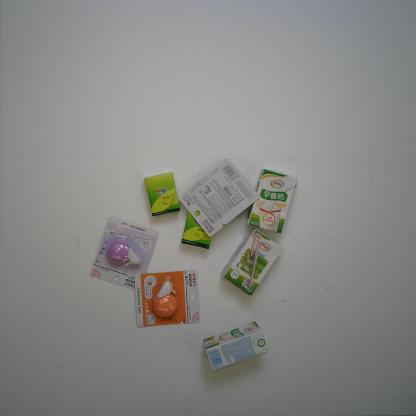Milk: (221, 227, 284, 297), (246, 167, 298, 234), (203, 320, 269, 371)
Stationery: (178, 157, 261, 238), (90, 216, 159, 291), (133, 269, 202, 328)
Tissue: (143, 170, 182, 217), (181, 209, 213, 250)
